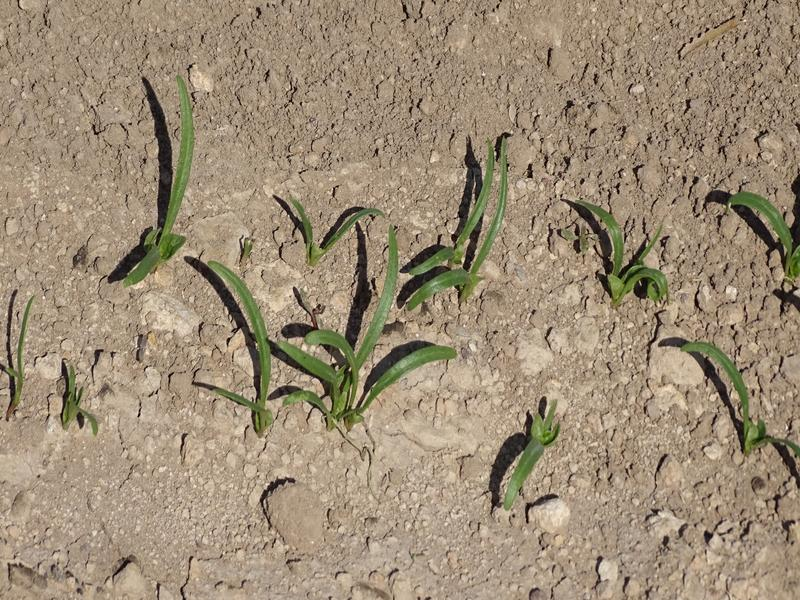Espinaca: (286, 134, 504, 431), (128, 75, 200, 276), (678, 323, 777, 454), (205, 254, 270, 438), (579, 195, 673, 299), (729, 178, 800, 277), (510, 405, 561, 502)
